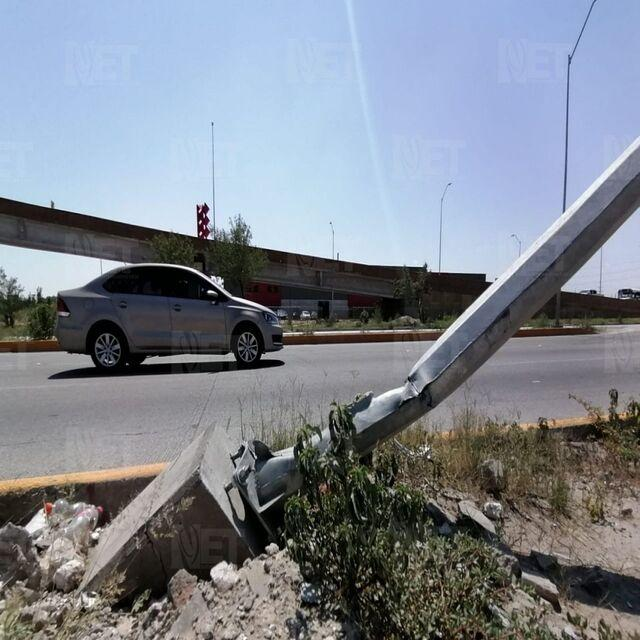Inclined Pole: (71, 135, 640, 613)
